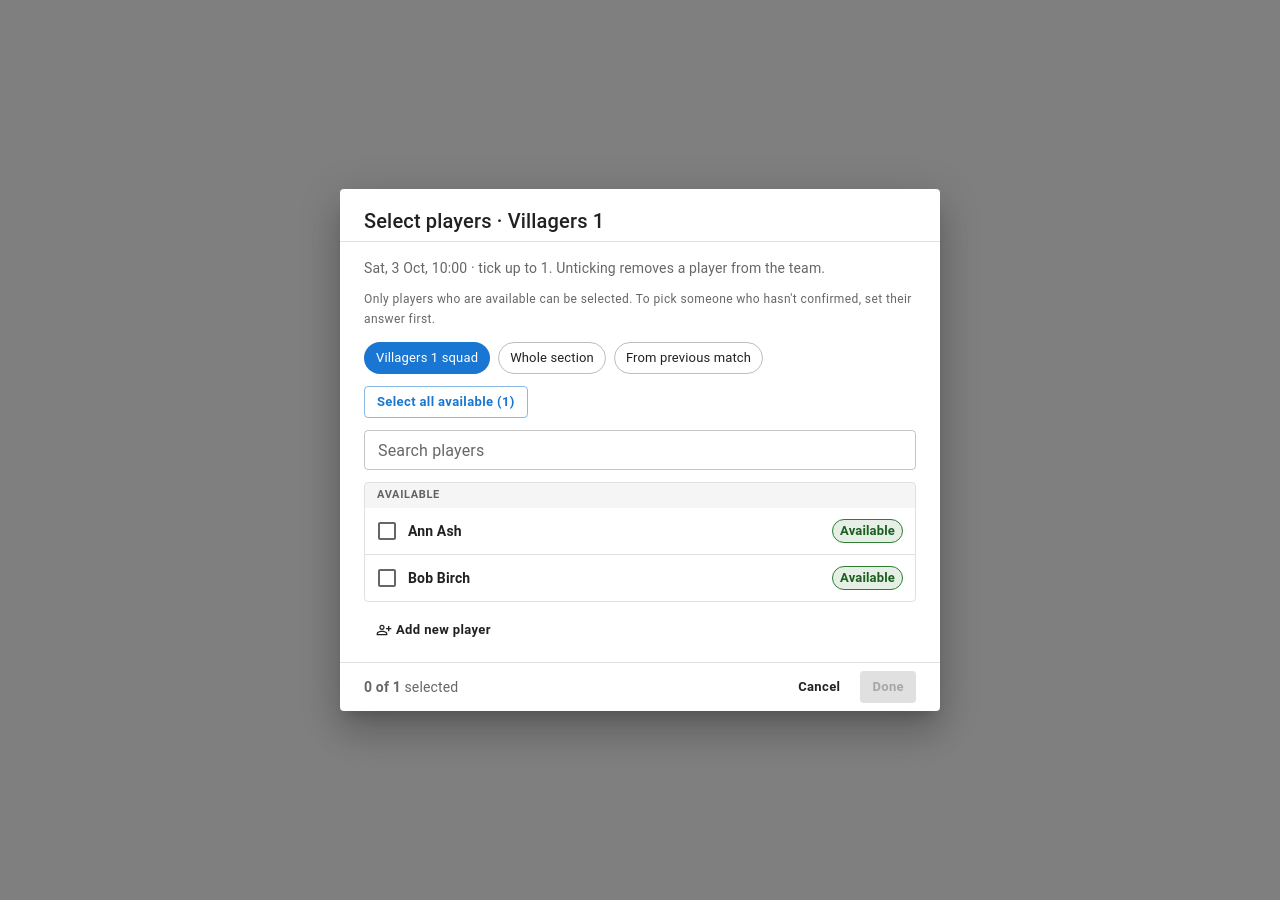
SelectPlayersDialog › Select all available › stops at the limit
The width and height of the screenshot is (1280, 900).
What coordinates should you click on to do the following:
click the button with aria-label "Select all available players not yet selected (1)"
I would click on:
 (446, 402)
Its box is [364,386,528,418].
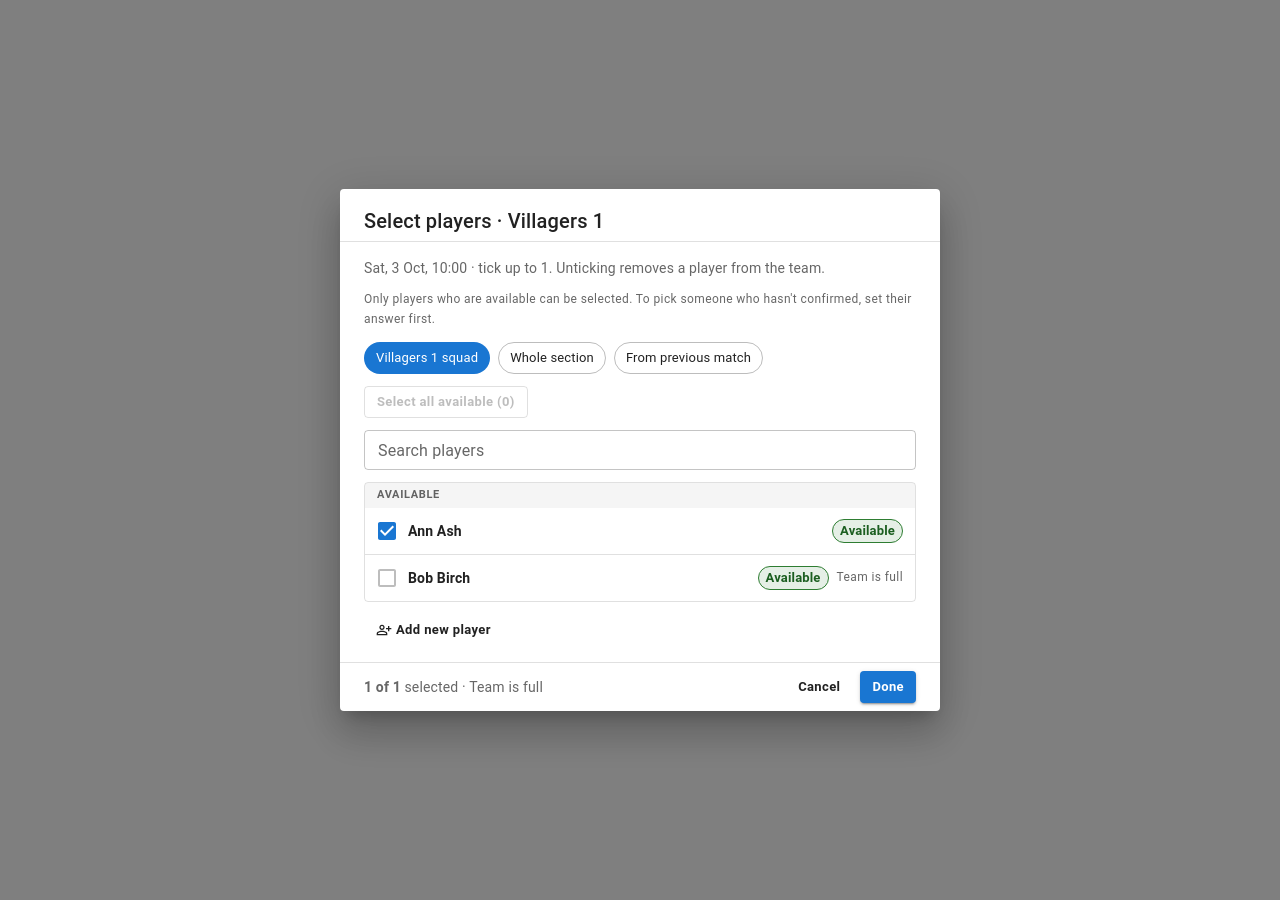
Check: the checkbox labelled "Bob Birch" is not checked, box [375,566,470,590]
Check: the checkbox labelled "Ann Ash" is checked, box [375,519,462,543]
